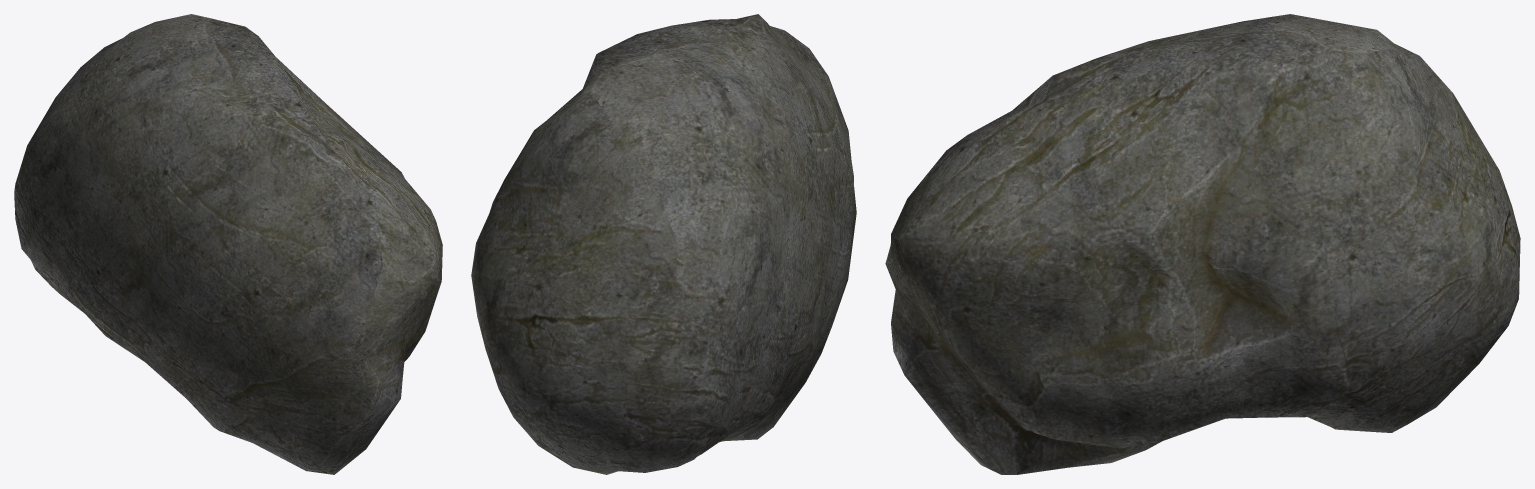
3 views of the same model, side by side, from view 1: azimuth 30°, elevation 25°; view 2: azimuth 150°, elevation 25°; view 3: azimuth 270°, elevation 25° (orthographic). The views are drawn at different scales.
Parts seen in each view (by area): view 1: COM_Nature_R.000; view 2: COM_Nature_R.000; view 3: COM_Nature_R.000.
Part boxes in pixels (bbox=[...]): COM_Nature_R.000: bbox=[14, 14, 442, 474]; COM_Nature_R.000: bbox=[471, 14, 856, 474]; COM_Nature_R.000: bbox=[885, 14, 1520, 474].
Size of the model in its own units: 119 by 163 by 214.
1 material, 1 textured.
